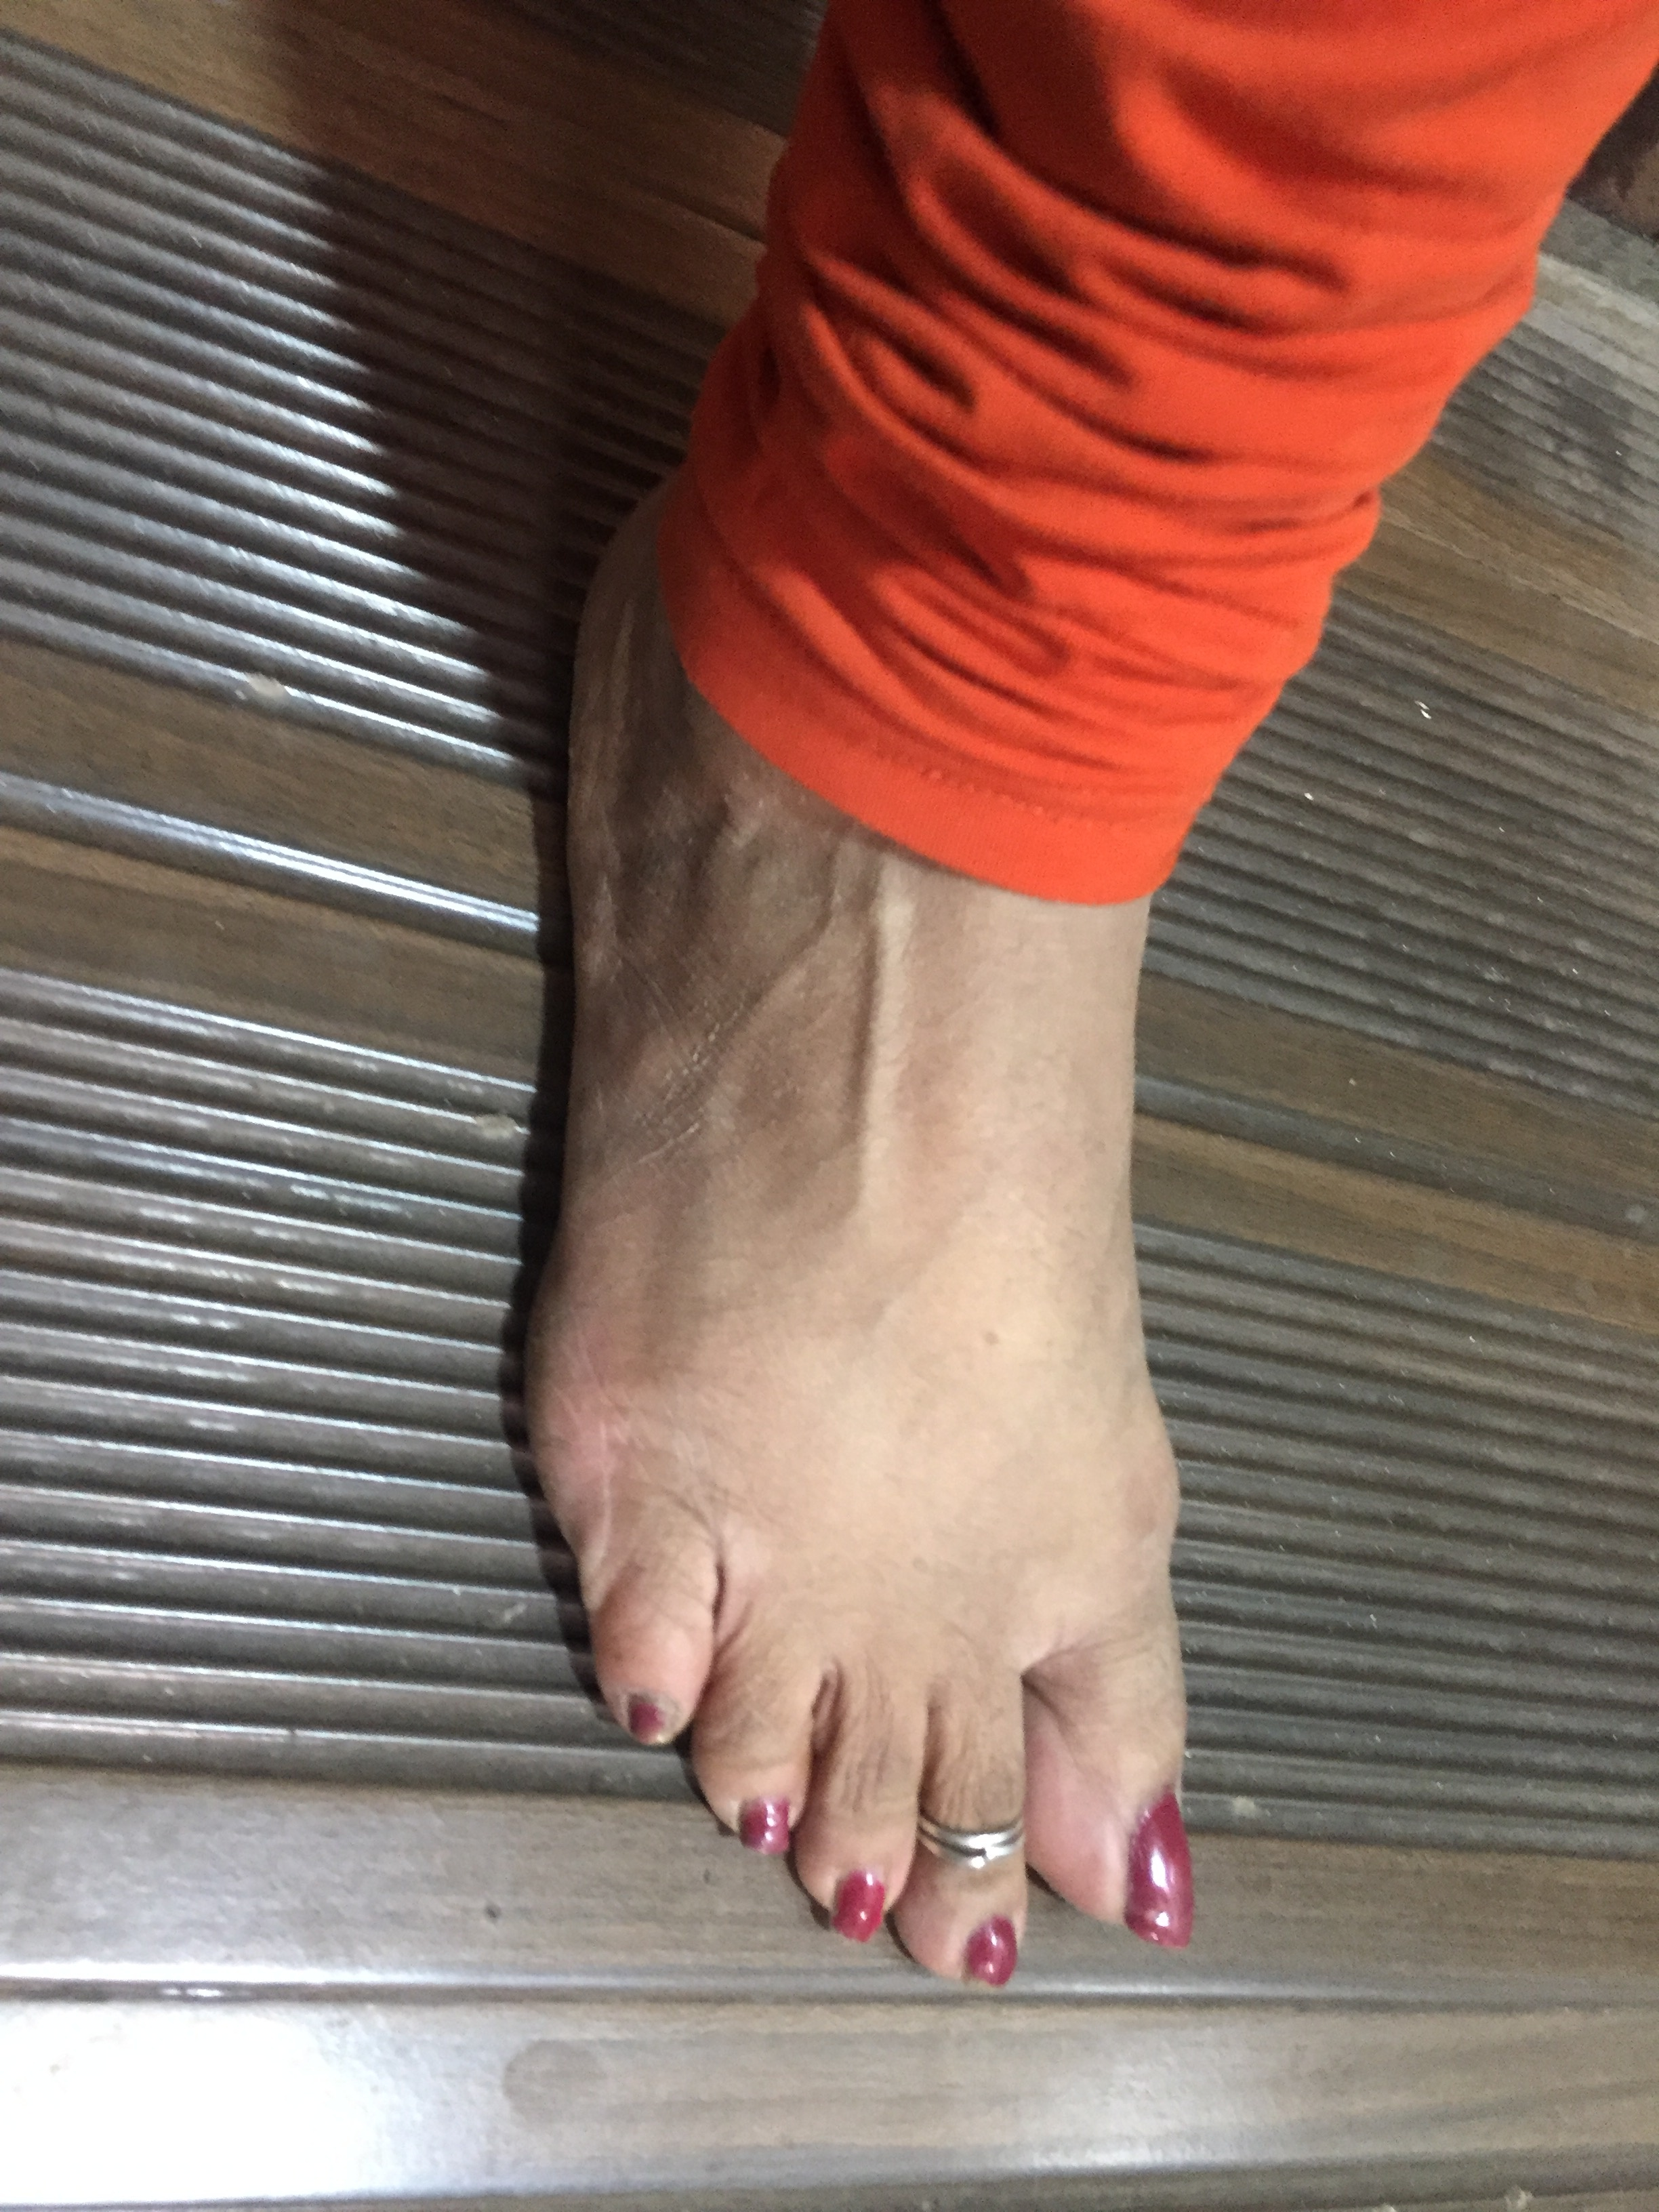feet: (535, 343, 1236, 1994)
